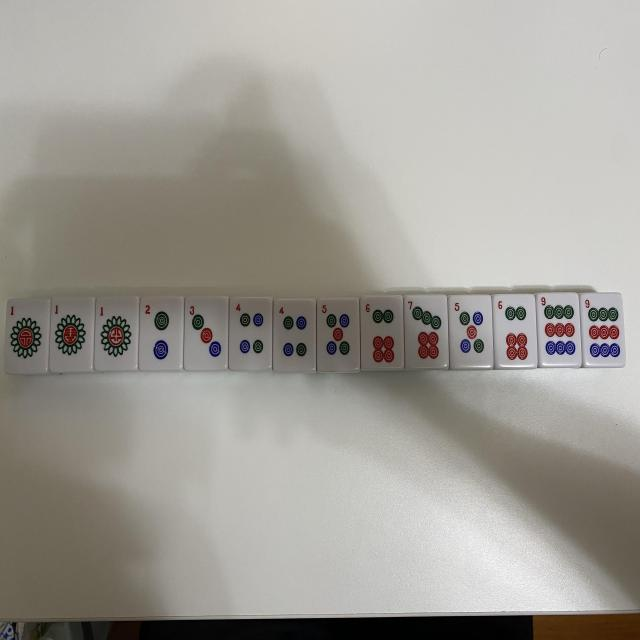sd1: (98, 298, 138, 364), (6, 298, 46, 364), (52, 298, 91, 364)
sd2: (141, 298, 181, 364)
sd3: (186, 300, 226, 364)
sd4: (230, 298, 270, 364), (274, 302, 314, 367)
sd5: (318, 300, 358, 366), (452, 298, 492, 363)
sd6: (362, 300, 402, 366), (496, 297, 536, 362)
sd7: (406, 298, 446, 363)
sd9: (539, 294, 579, 360), (582, 296, 622, 360)
